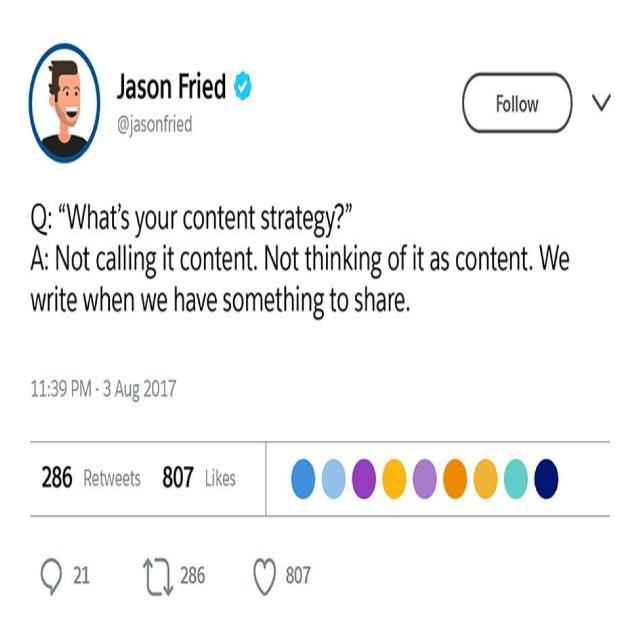2: (62, 466, 72, 488), (197, 566, 205, 584)
3: (184, 466, 194, 488), (168, 379, 176, 397), (303, 566, 311, 584)
4: (162, 464, 174, 489), (52, 465, 62, 490), (285, 565, 295, 585), (188, 566, 196, 584)
5: (59, 378, 67, 399)
A: (31, 244, 44, 270), (99, 208, 110, 230), (125, 78, 136, 100), (285, 208, 295, 232), (376, 290, 386, 314), (106, 250, 116, 273), (186, 290, 196, 312), (430, 251, 440, 272), (114, 379, 124, 397), (133, 117, 141, 133)
C: (96, 250, 106, 272), (456, 250, 466, 272), (182, 210, 192, 230), (179, 251, 189, 271)
D: (214, 73, 226, 99), (185, 114, 192, 132)
E: (302, 208, 314, 232), (156, 291, 168, 314), (66, 291, 78, 313), (202, 79, 214, 101), (263, 292, 275, 313), (206, 292, 218, 313), (558, 250, 570, 270), (111, 292, 122, 313), (394, 291, 404, 314), (225, 210, 236, 230), (222, 251, 232, 273), (498, 250, 508, 272), (122, 472, 130, 489), (176, 119, 184, 132), (91, 473, 99, 486), (116, 472, 122, 488), (223, 474, 229, 487)
F: (179, 73, 189, 99), (400, 243, 408, 271), (497, 94, 503, 114), (164, 114, 168, 132)
G: (312, 209, 324, 239), (145, 250, 157, 280), (370, 250, 382, 280), (314, 290, 324, 322), (132, 383, 140, 403)
H: (314, 244, 324, 270), (100, 286, 110, 312), (174, 286, 184, 312), (284, 284, 294, 310), (364, 285, 374, 311), (89, 203, 98, 229)
I: (197, 71, 201, 100), (128, 244, 132, 272), (412, 243, 416, 271), (296, 284, 300, 312), (162, 244, 166, 270), (54, 286, 58, 311), (354, 242, 357, 270), (212, 468, 215, 488), (173, 114, 176, 132), (326, 244, 328, 270)
J: (116, 72, 125, 100), (128, 114, 132, 137)
K: (344, 244, 354, 270), (216, 468, 222, 488)
L: (205, 469, 212, 487), (123, 244, 126, 272), (118, 244, 121, 270), (512, 95, 515, 112), (516, 95, 518, 112)
M: (246, 292, 263, 312), (80, 379, 92, 397)
N: (264, 244, 278, 270), (56, 245, 69, 270), (160, 79, 172, 99), (359, 251, 370, 271), (124, 290, 134, 312), (204, 251, 214, 272), (234, 251, 244, 272), (206, 210, 216, 230), (237, 210, 247, 230), (510, 251, 520, 271), (479, 251, 489, 271), (134, 251, 144, 271), (302, 292, 312, 312), (330, 252, 340, 270), (156, 118, 162, 132)
O: (336, 291, 348, 314), (280, 250, 292, 272), (465, 250, 477, 272), (147, 78, 159, 100), (71, 251, 83, 272), (232, 292, 244, 313), (145, 210, 157, 230), (388, 251, 400, 271), (190, 251, 202, 271), (193, 210, 204, 230), (502, 99, 510, 114), (519, 99, 527, 114), (147, 119, 155, 132)
P: (71, 379, 79, 397)
Q: (31, 204, 48, 236)
R: (388, 292, 395, 313), (84, 468, 91, 488), (189, 79, 196, 99), (278, 210, 285, 228), (172, 210, 178, 230), (48, 292, 54, 312), (168, 118, 172, 132)
S: (222, 291, 232, 313), (121, 208, 130, 232), (260, 210, 270, 230), (354, 292, 364, 312), (441, 250, 450, 272), (138, 78, 146, 99), (135, 473, 141, 488), (230, 473, 236, 488), (140, 119, 146, 132)
T: (82, 246, 90, 272), (292, 246, 300, 272), (490, 246, 498, 272), (417, 246, 425, 272), (329, 288, 337, 314), (294, 205, 302, 230), (214, 247, 222, 271), (274, 288, 282, 312), (270, 204, 277, 230), (305, 247, 312, 273), (245, 246, 252, 272), (248, 206, 255, 231), (521, 246, 528, 271), (167, 246, 174, 271), (110, 205, 116, 232), (218, 205, 224, 230), (60, 288, 66, 312), (130, 470, 136, 488), (100, 469, 104, 487)
U: (158, 212, 168, 230), (124, 383, 132, 398)
V: (196, 292, 207, 312)
W: (538, 244, 560, 272), (66, 203, 86, 230), (82, 292, 99, 312), (30, 292, 46, 312), (140, 292, 156, 312), (104, 473, 115, 486), (528, 99, 538, 112)
Y: (326, 210, 336, 240), (134, 210, 144, 239)
